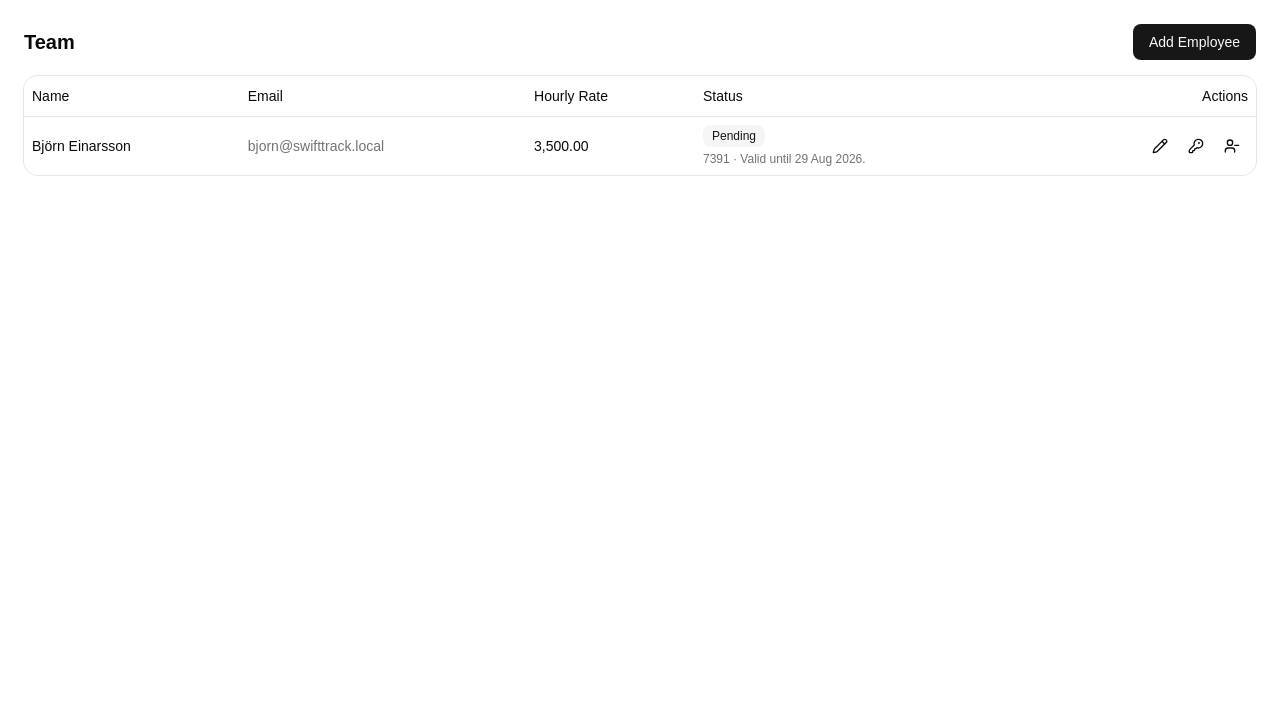
it: TeamPage — the setup code and its expiry › warns that the current code stops working
Click the button named "New code".
click(1196, 146)  # box x1=1180 y1=130 x2=1212 y2=162
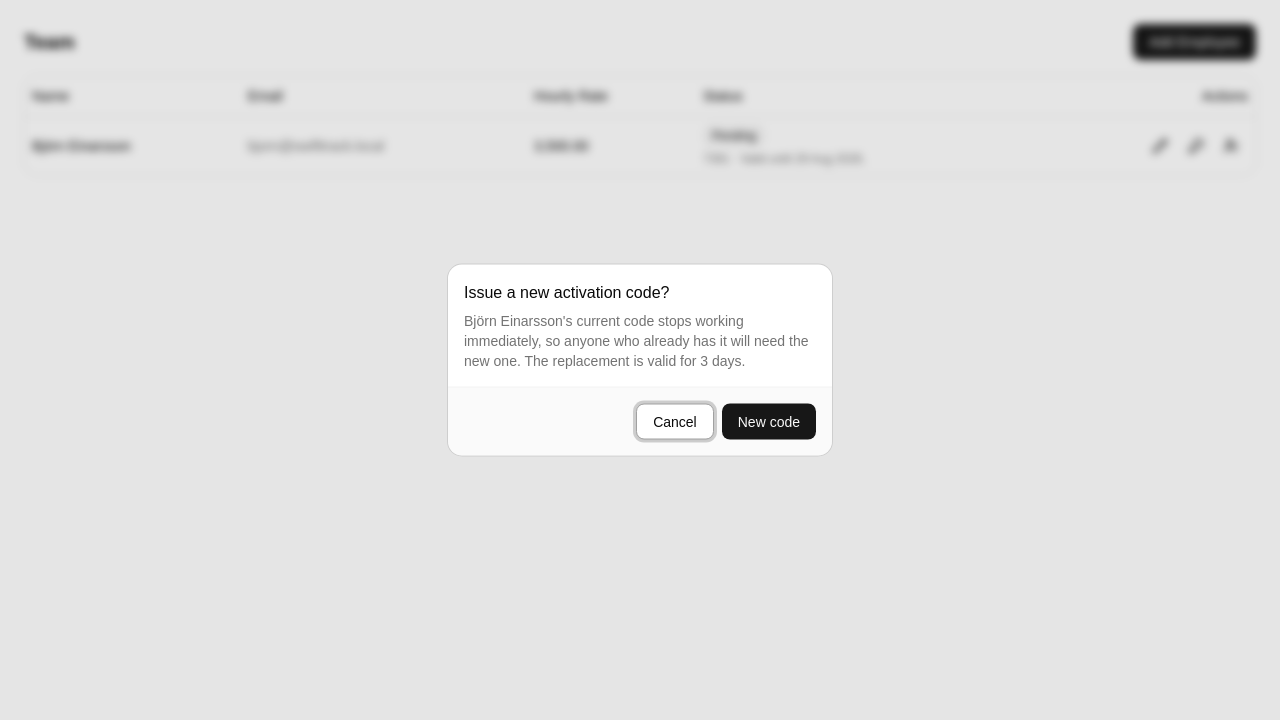
Check: the text "stops working immediately" is shown, box x1=464 y1=312 x2=808 y2=368
